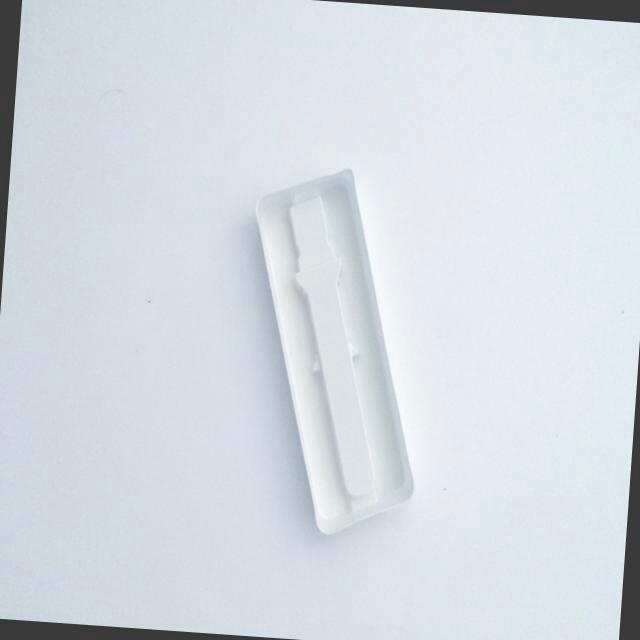plastic: (201, 134, 464, 574)
